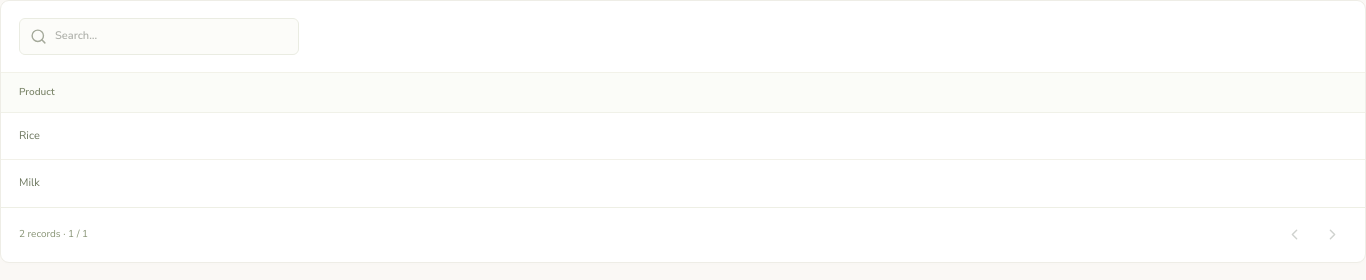
Test: management workflows › filters real table rows
In the field: (172, 36) [55,19,288,54], type "Rice"
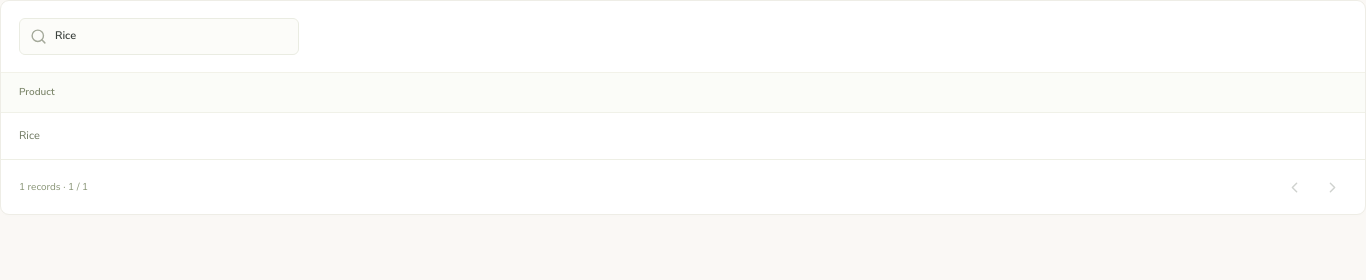
Expected: the text "Rice" is shown, [1,112,1365,159]
Expected: the text "Milk" is gone
